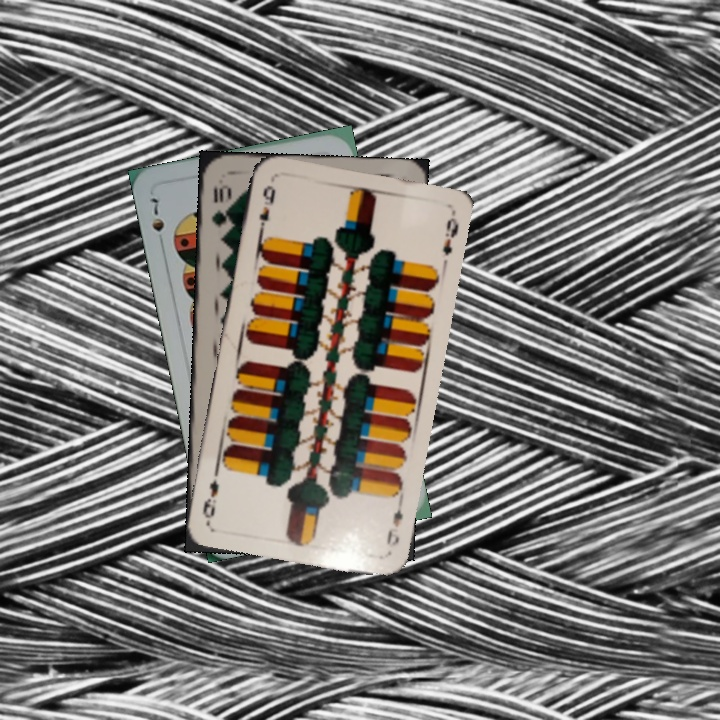E9: (255, 181, 278, 237), (382, 497, 406, 550)
G10: (207, 181, 233, 230)
S7: (144, 194, 167, 249)
